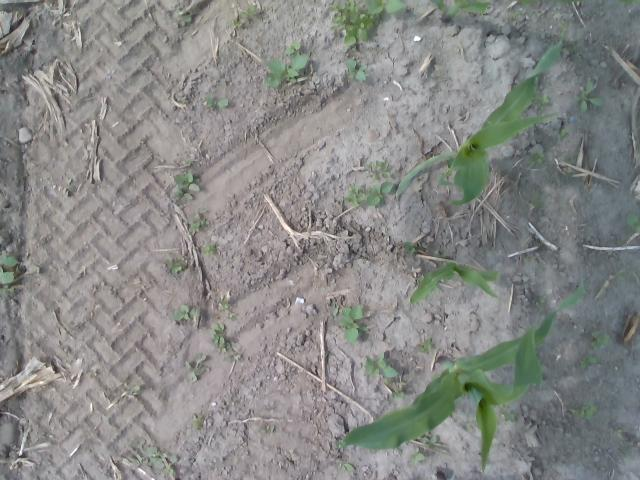Maize: (333, 282, 584, 470), (394, 22, 568, 205), (409, 256, 508, 305), (427, 0, 640, 21), (412, 470, 452, 480)
Weeds: (329, 0, 382, 47), (129, 436, 177, 474), (264, 53, 308, 86), (340, 304, 368, 344), (363, 350, 398, 377), (576, 80, 604, 112), (172, 171, 201, 201), (0, 253, 19, 294), (366, 181, 394, 207), (210, 322, 232, 354), (364, 0, 408, 15), (186, 207, 210, 234), (183, 354, 206, 382), (230, 4, 256, 27), (364, 160, 392, 181), (570, 402, 600, 421), (344, 183, 366, 207), (346, 58, 368, 81), (384, 377, 406, 399), (171, 304, 196, 322), (202, 91, 228, 108), (590, 329, 611, 349), (217, 297, 235, 318), (420, 434, 441, 452), (165, 257, 186, 275), (532, 91, 551, 110), (175, 5, 192, 26), (530, 188, 546, 209), (626, 213, 640, 235), (328, 294, 342, 316), (409, 446, 424, 466), (416, 337, 432, 354), (499, 406, 516, 422), (527, 150, 545, 164), (284, 41, 300, 55), (337, 461, 356, 472), (192, 414, 205, 430), (506, 9, 520, 23), (404, 241, 419, 254), (580, 357, 597, 368), (202, 243, 218, 254), (612, 268, 626, 280), (535, 295, 547, 308), (126, 384, 140, 395), (556, 128, 568, 140), (464, 421, 476, 432), (562, 154, 574, 165), (568, 44, 580, 54), (260, 425, 272, 434), (564, 170, 574, 179), (614, 428, 622, 438), (550, 175, 558, 183), (184, 160, 192, 166), (599, 287, 605, 294), (417, 275, 423, 281)
